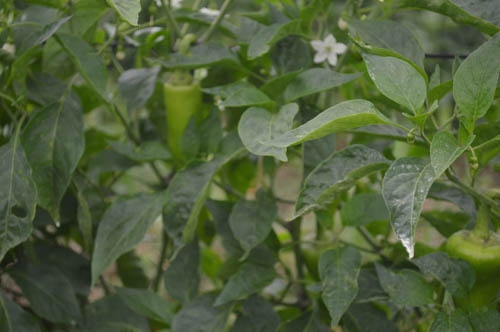ChiliPepper: (442, 236, 498, 313), (160, 79, 205, 163)
